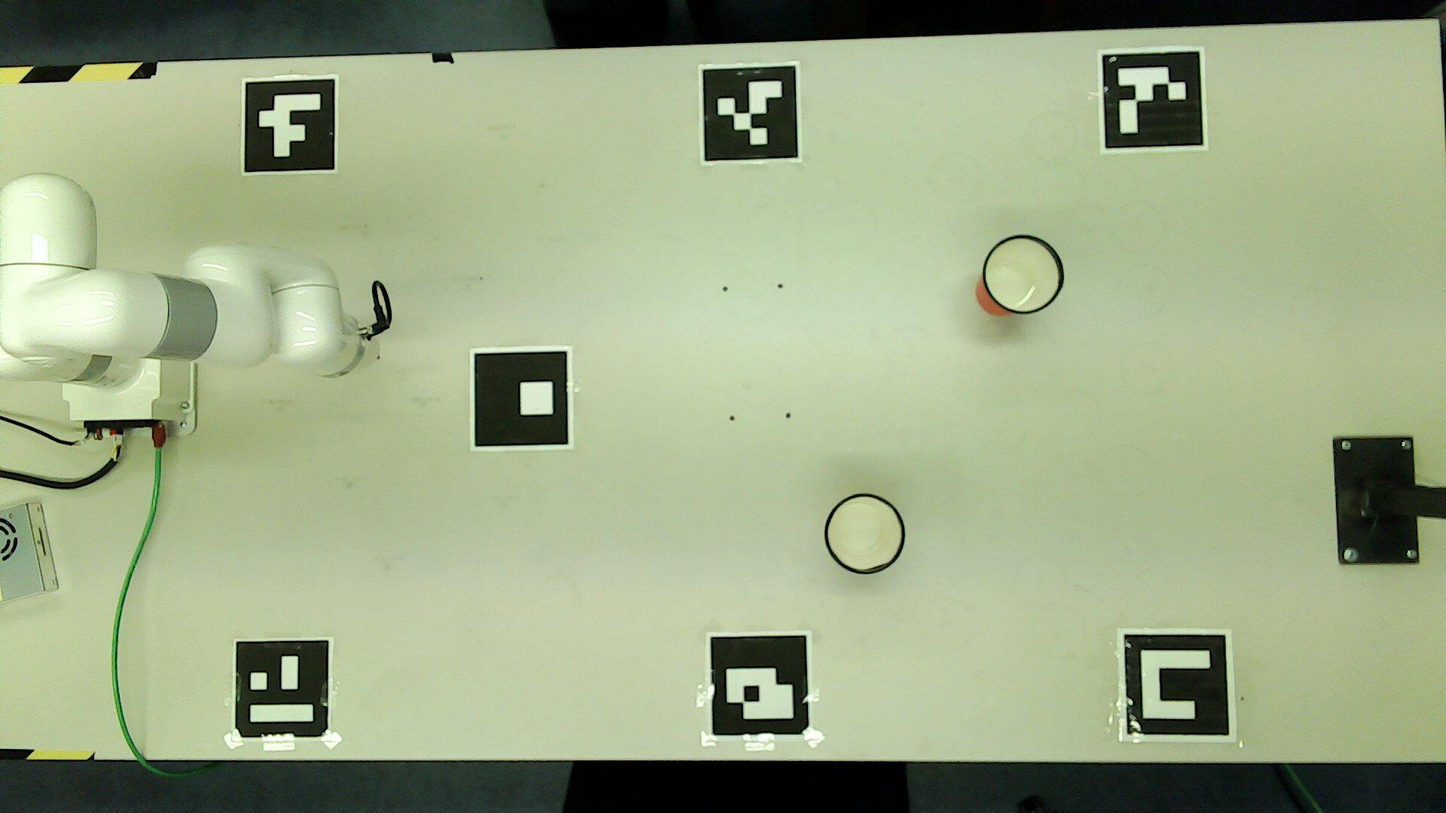cup: (985, 236, 1062, 312), (827, 496, 902, 573)
